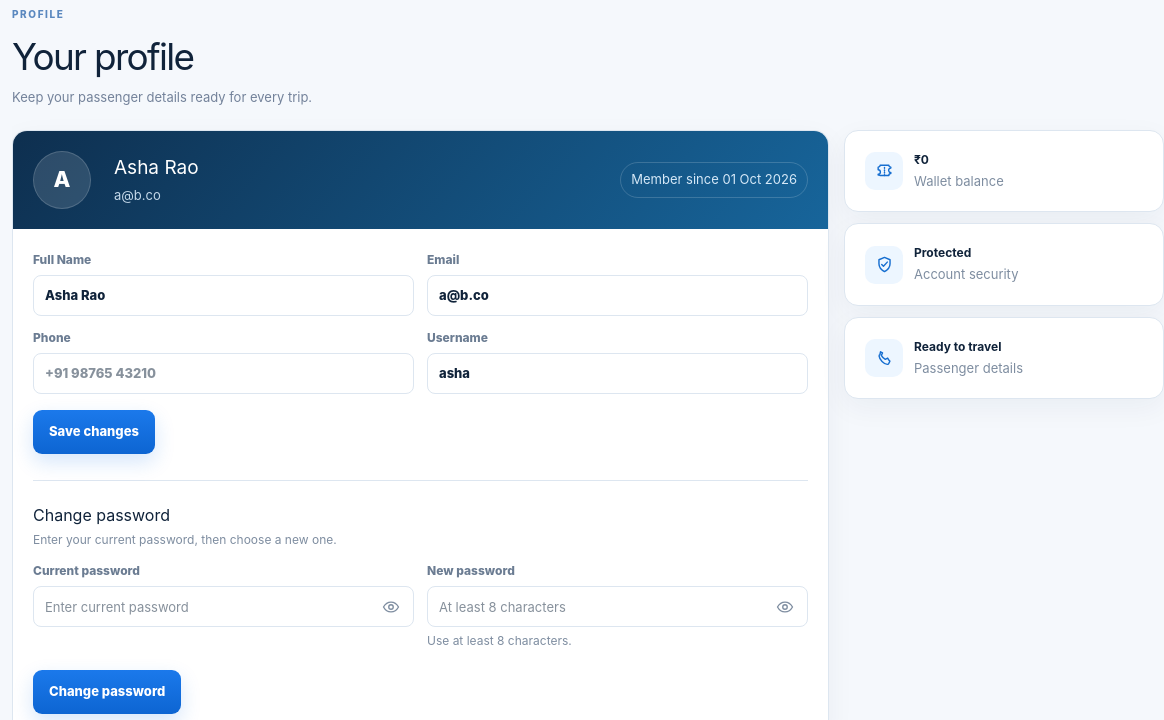
Test case: ProfileComponent password fields › shows the length error once the new password was touched and is too short
Type "short" into the password field with id "new-password".
click(618, 607); type("short")  # box [427,586,808,627]
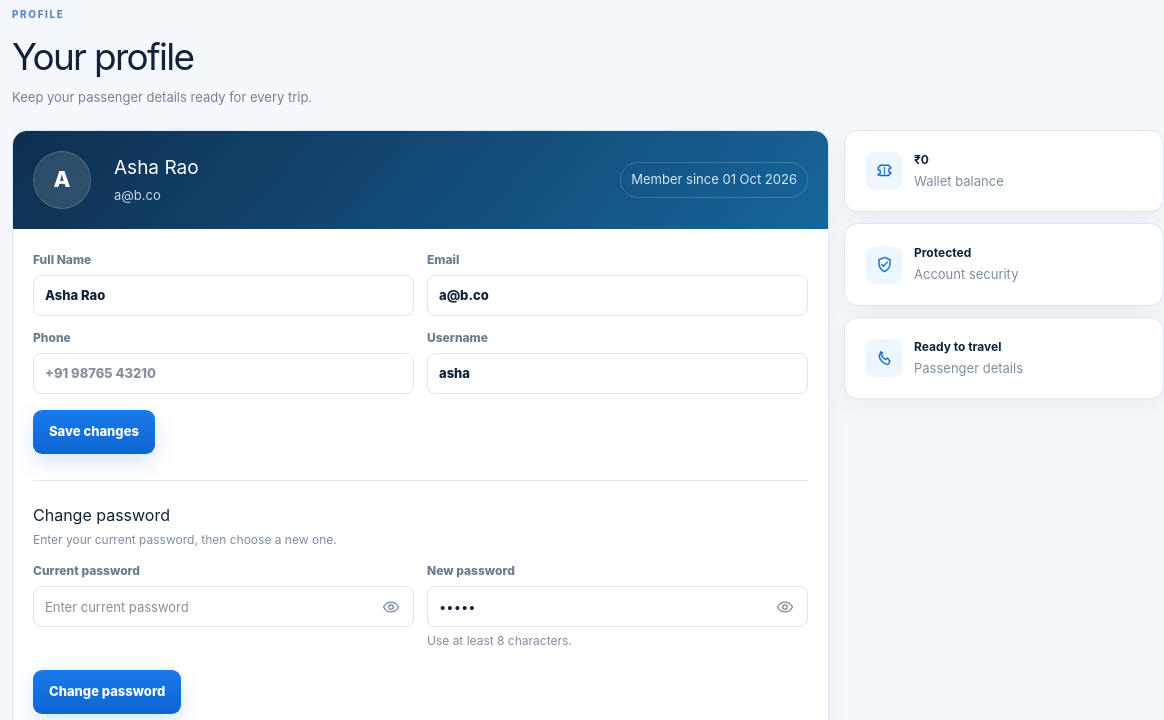
Leave the password field with id "new-password", box [427,586,808,627]
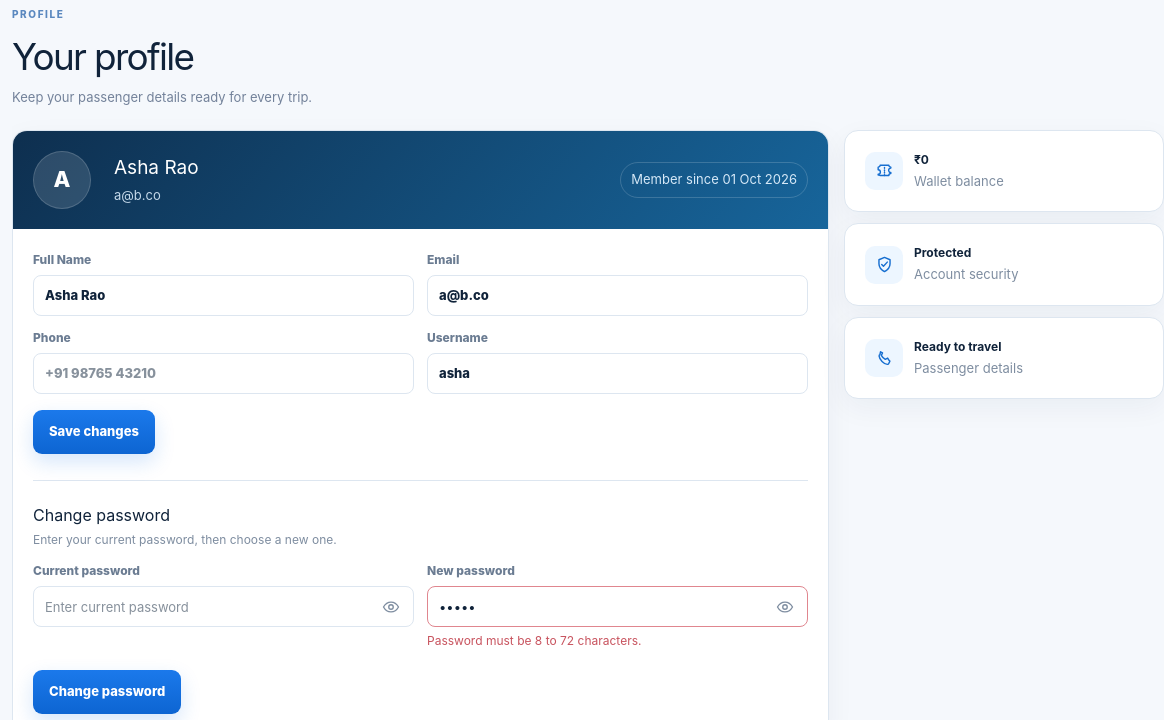
Expected: the text with class "field-hint" shows "8 to 72", [427,633,642,648]
